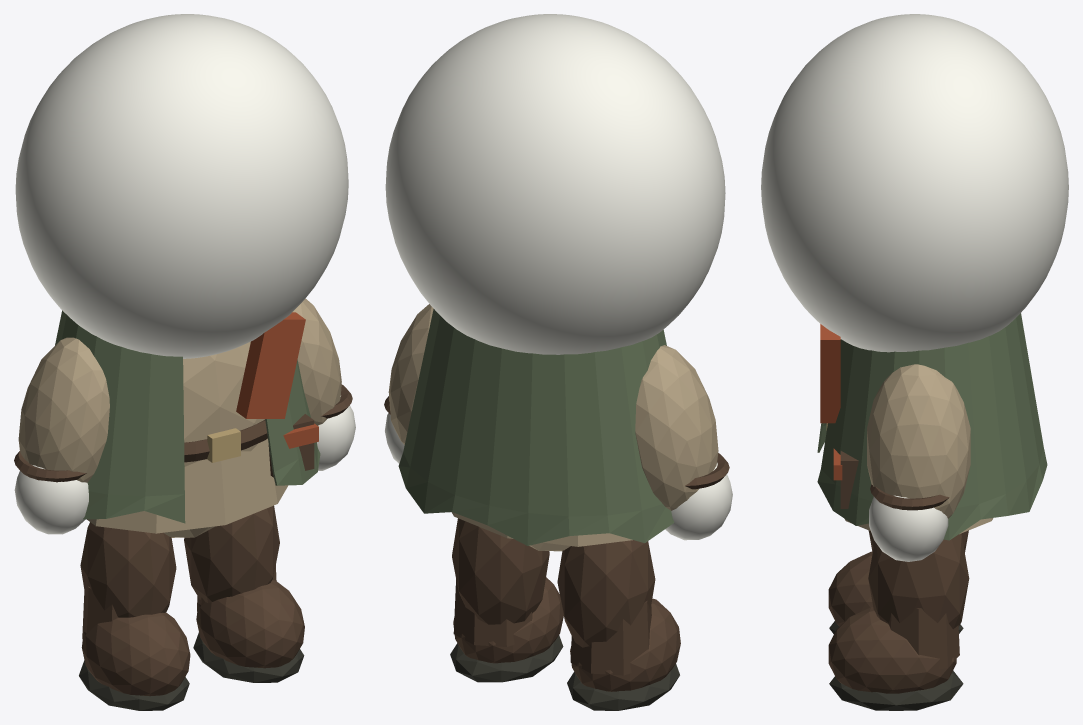
Rendered from DefaultWanderer.glb.
3 renders of one model, left to right at view 1: azimuth 30°, elevation 25°; view 2: azimuth 150°, elevation 25°; view 3: azimuth 270°, elevation 25°, orthographic. The views are drawn at different scales.
Parts seen in each view (by area): view 1: Face, StarterCape, SleeveL, Tunic, BootL, TrousersL, BootR, TrousersR, Body, ScarfTail, SleeveR, HandMeshL (+9 smaller); view 2: Face, StarterCape, SleeveL, TrousersL, TrousersR, BootL, BootR, SleeveR, BootShaftL, HandMeshL, BootSoleR, BootSoleL (+3 smaller); view 3: Face, StarterCape, SleeveR, BootR, TrousersR, HandMeshR, BootShaftR, BootSoleR, BootL, ScarfTail, WristBindingR, Pouch.
Boxes of the visible parts, x1,y1,x2,y2 form: Face: (15,14,348,358); StarterCape: (55,310,320,523); SleeveL: (18,337,109,482); Tunic: (87,438,288,533); BootL: (81,612,190,696); TrousersL: (80,522,176,617); BootR: (196,580,304,668); TrousersR: (184,505,279,602); Body: (163,341,264,537); ScarfTail: (236,312,305,418); SleeveR: (292,298,341,425); HandMeshL: (14,465,88,534); Face: (385,14,725,354); StarterCape: (398,309,674,545); SleeveL: (635,345,718,510); TrousersL: (557,540,655,647); TrousersR: (452,518,549,624); BootL: (570,598,680,691); BootR: (453,577,563,663); SleeveR: (388,304,433,444); BootShaftL: (570,600,651,675); HandMeshL: (665,462,732,540); BootSoleR: (450,635,563,682); BootSoleL: (567,664,679,710); Face: (761,14,1068,352); StarterCape: (817,313,1047,540); SleeveR: (867,364,970,518); BootR: (828,607,956,693); TrousersR: (868,533,969,629); HandMeshR: (869,495,948,561); BootShaftR: (888,608,959,669); BootSoleR: (829,670,963,710); BootL: (828,551,872,626); ScarfTail: (820,324,840,423); WristBindingR: (870,484,949,510); Pouch: (840,451,858,508).
Size of the model in its own units: 1.49 by 2.82 by 1.22.
